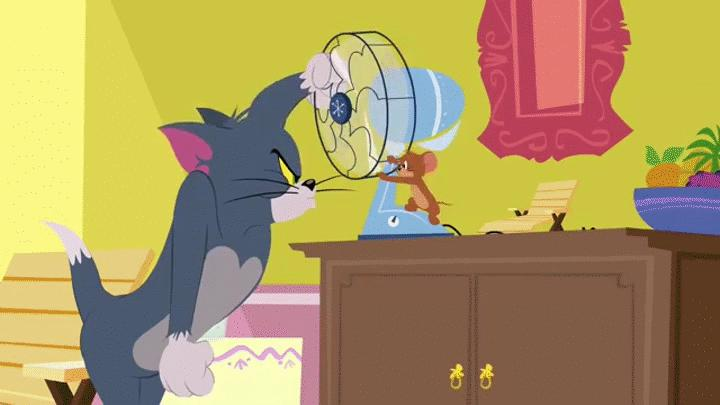tom: (45, 54, 355, 404)
